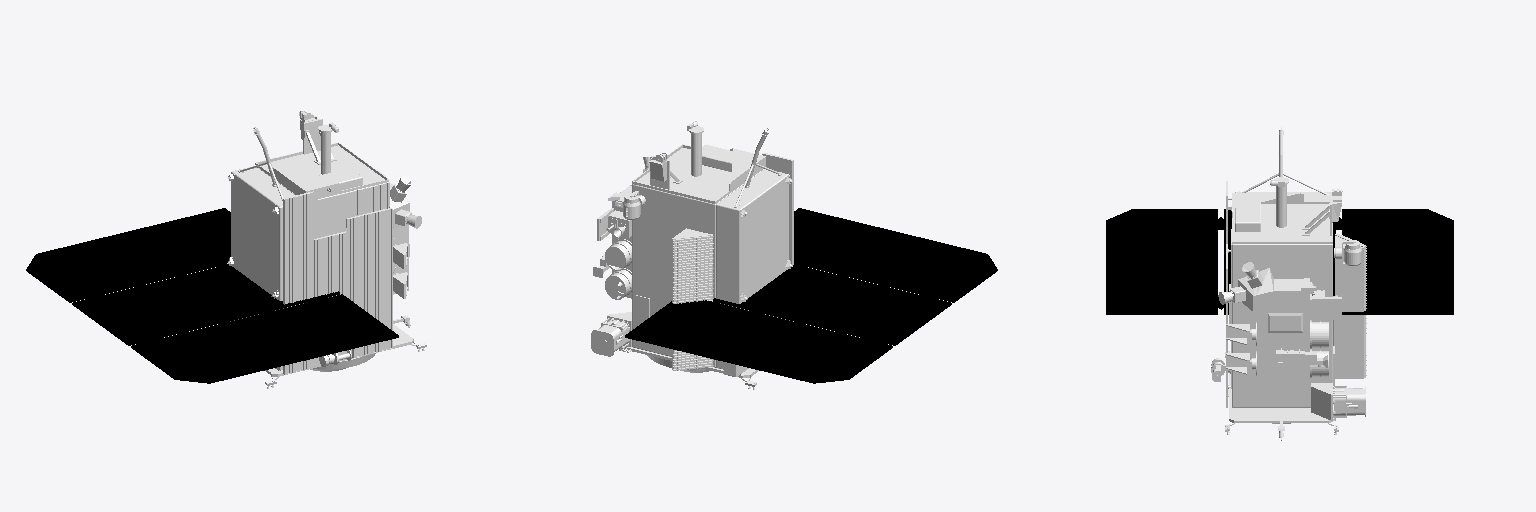
The model's file is LRO-label-body.obj.
3 views of the same model, side by side, from view 1: azimuth 30°, elevation 25°; view 2: azimuth 150°, elevation 25°; view 3: azimuth 270°, elevation 25° (orthographic).
Visible parts, largest first — view 1: LRO-label-body; view 2: LRO-label-body; view 3: LRO-label-body.
Part boxes in pixels (x1,y1,x2,y2): LRO-label-body: (26, 111, 426, 388); LRO-label-body: (591, 121, 997, 389); LRO-label-body: (1106, 127, 1453, 440).
Size of the model in its own units: 1.19 by 0.9417 by 1.16.